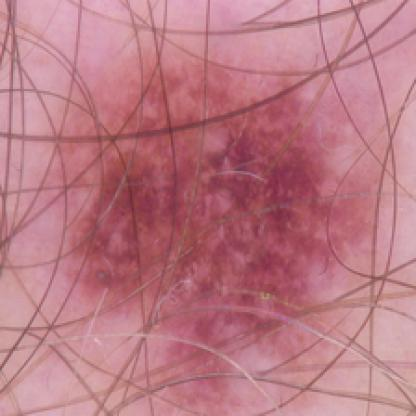benign: (69, 56, 377, 347)
